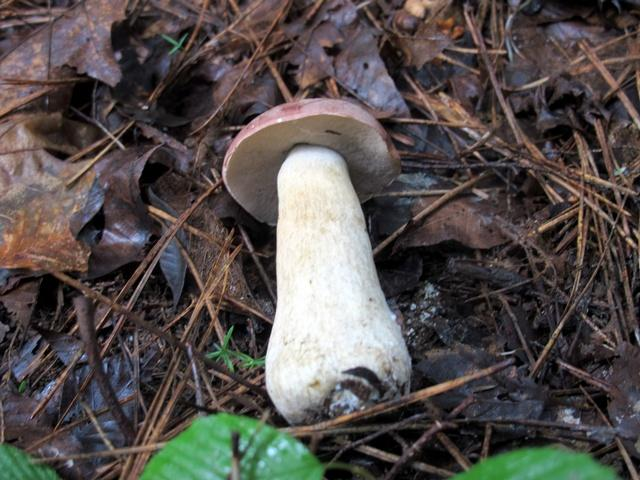poisonous_mushroom: (220, 96, 414, 425)
